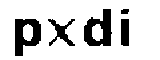d: (79, 4, 112, 53)
i: (115, 4, 136, 51)
p: (11, 16, 45, 60)
x: (46, 17, 78, 49)
